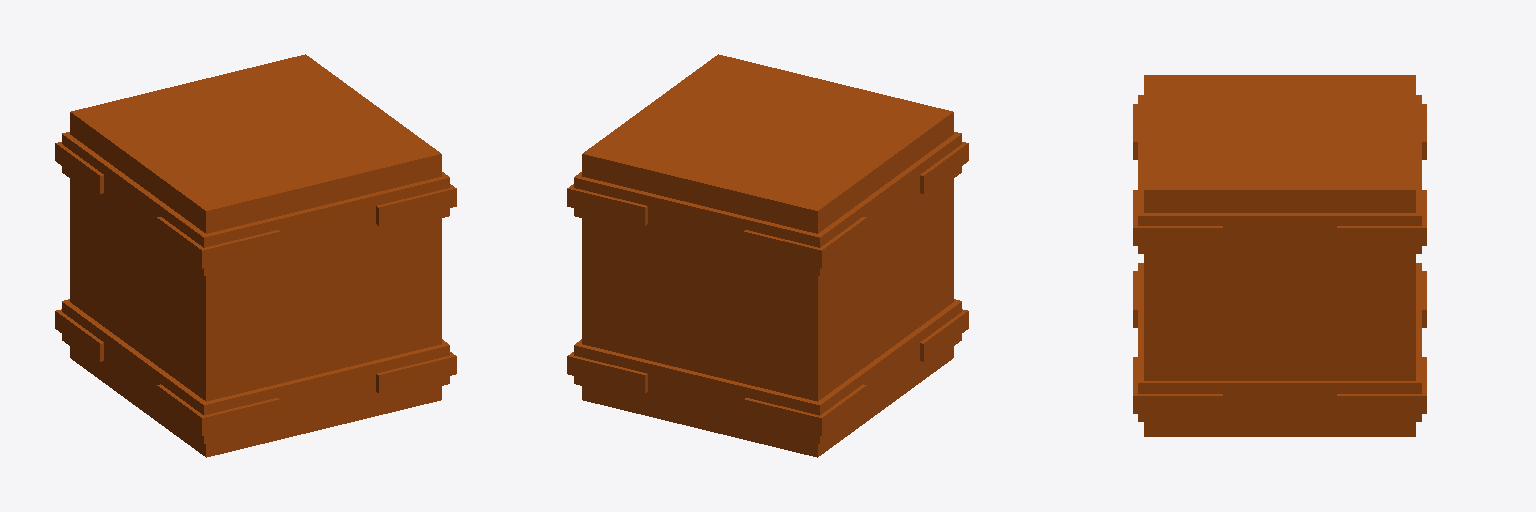
File: Caja.obj
The picture shows the model from 3 angles: view 1: azimuth 30°, elevation 25°; view 2: azimuth 150°, elevation 25°; view 3: azimuth 270°, elevation 25°; orthographic projection.
Parts seen in each view (by area): view 1: Caja_Deco; view 2: Caja_Deco; view 3: Caja_Deco.
Boxes of the visible parts, <box> form: Caja_Deco: <box>55,54,456,457</box>; Caja_Deco: <box>567,54,968,457</box>; Caja_Deco: <box>1133,75,1426,436</box>.
Size of the model in its own units: 25.52 by 23.62 by 25.52.